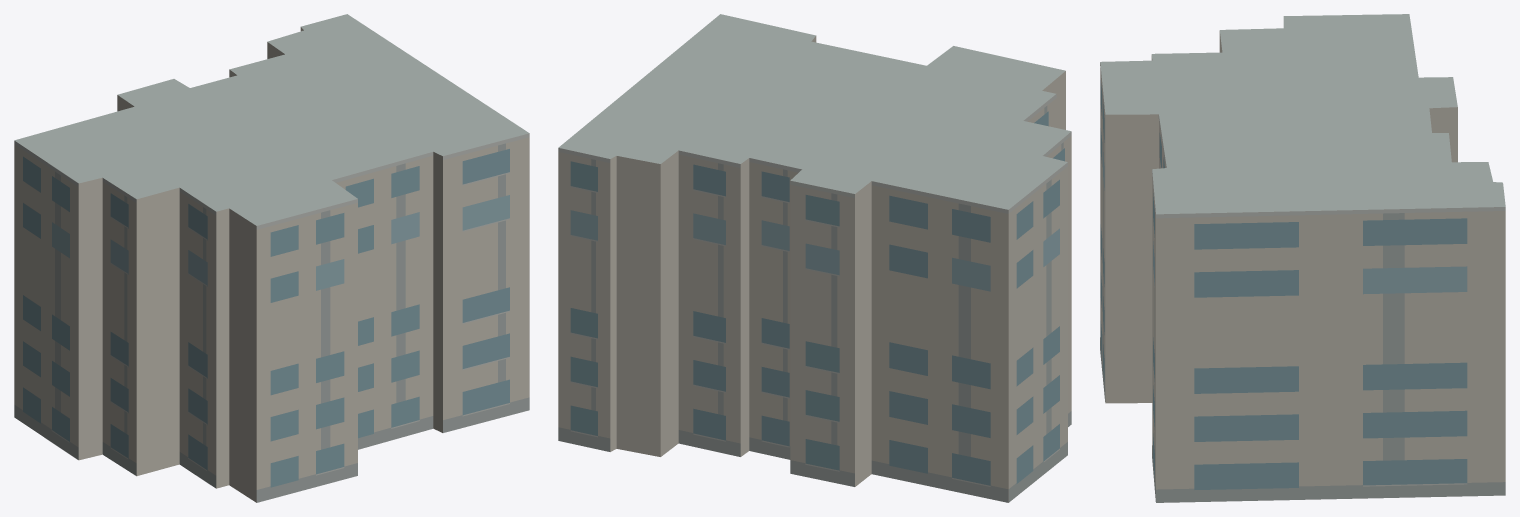
The model's file is survey-upis-32697621.glb.
The picture shows the model from 3 angles, left to right: view 1: azimuth 30°, elevation 25°; view 2: azimuth 150°, elevation 25°; view 3: azimuth 270°, elevation 25°; orthographic projection. The views are drawn at different scales.
Visible parts, largest first — view 1: survey-upis-32697621.tmp; view 2: survey-upis-32697621.tmp; view 3: survey-upis-32697621.tmp.
Part boxes in pixels (x1=…): survey-upis-32697621.tmp: x1=14, y1=14, x2=529, y2=502; survey-upis-32697621.tmp: x1=558, y1=14, x2=1071, y2=502; survey-upis-32697621.tmp: x1=1100, y1=14, x2=1505, y2=502.
Size of the model in its own units: 26.13 by 17.55 by 22.36.
